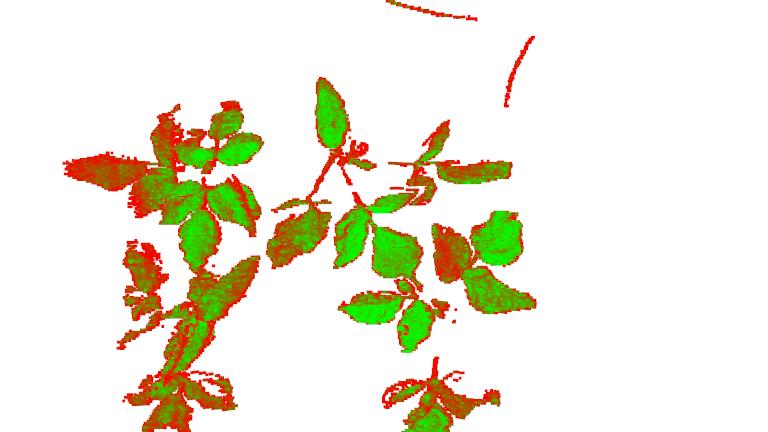mungbean: (270, 77, 510, 283), (338, 208, 541, 432), (58, 97, 266, 268), (115, 239, 263, 432)
